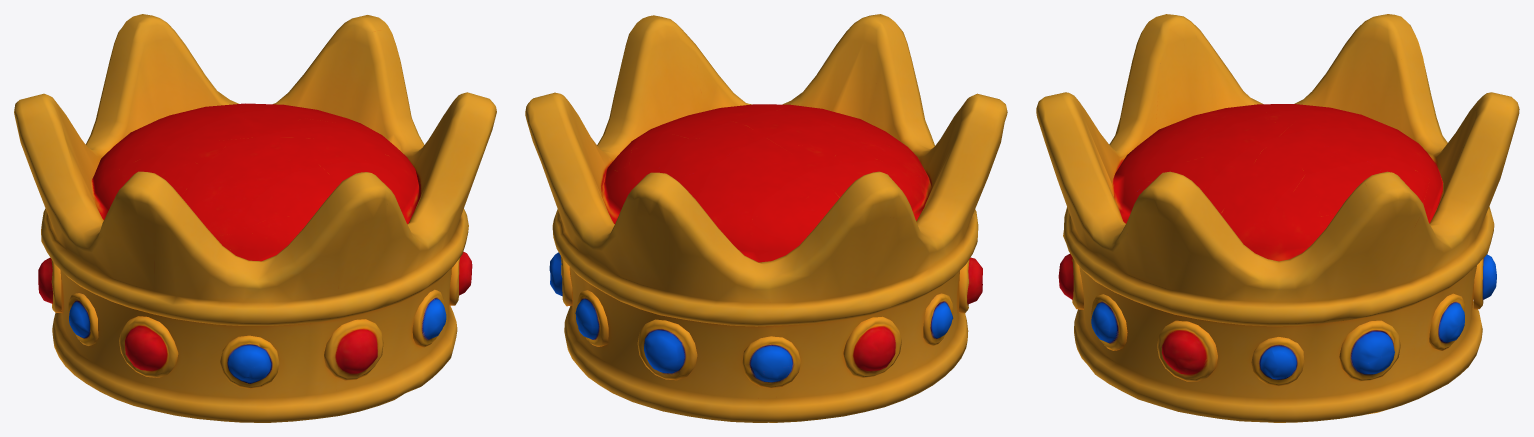
The model's file is hat_crown.glb.
The picture shows the model from 3 angles, left to right: view 1: azimuth 30°, elevation 25°; view 2: azimuth 150°, elevation 25°; view 3: azimuth 270°, elevation 25°; orthographic projection.
Parts seen in each view (by area): view 1: geometry_0; view 2: geometry_0; view 3: geometry_0.
Part boxes in pixels (left/top/right/bottom): geometry_0: left=14, top=14, right=496, bottom=422; geometry_0: left=525, top=14, right=1007, bottom=422; geometry_0: left=1036, top=14, right=1519, bottom=422.
Bounding box in the file's own units: 0.8589 × 0.5405 × 0.958.
Materials: 1 (1 with a texture image).
